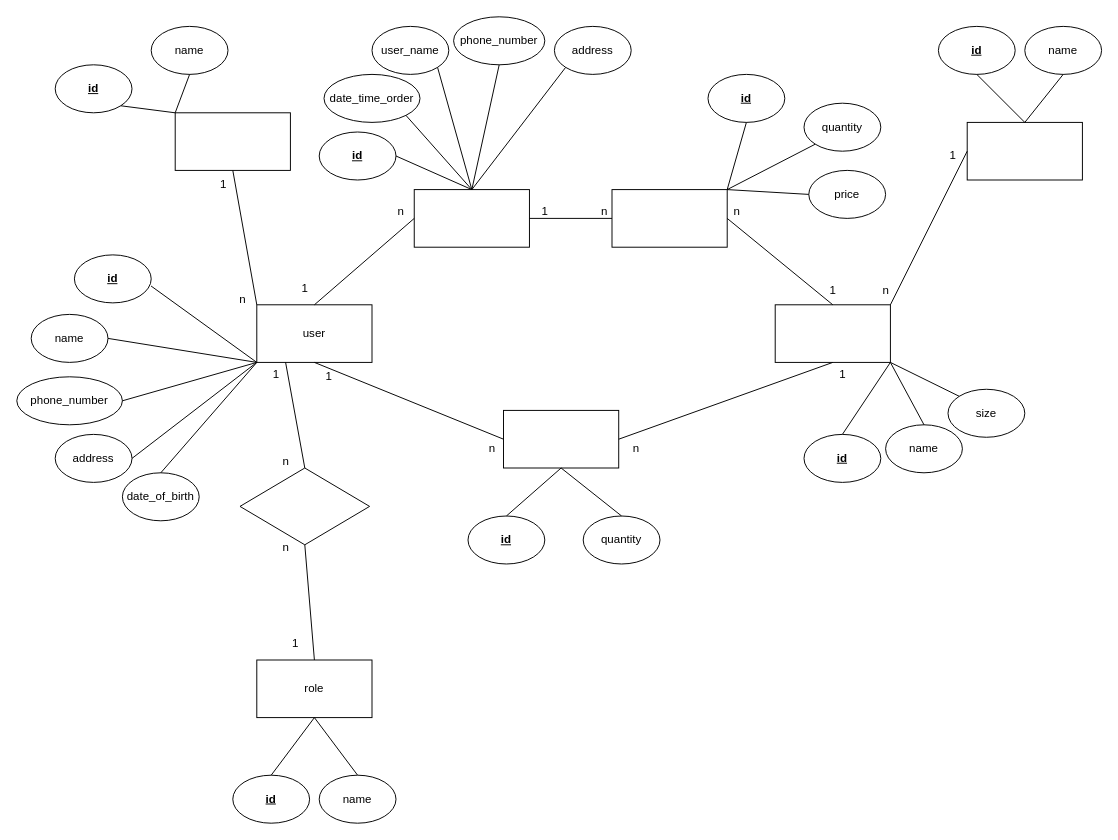
Image size: 1118x840. Some labels were removed from this diagram. The shapes that lost their labels are listed below. From the top down, each one's centre as x and y in pixels, then its label:
At [232,141]: "type".
At [1024,150]: "category".
At [471,218]: "order".
At [669,218]: "order_detail".
At [832,333]: "product".
At [561,438]: "cart_item".
At [304,506]: "user_role".
